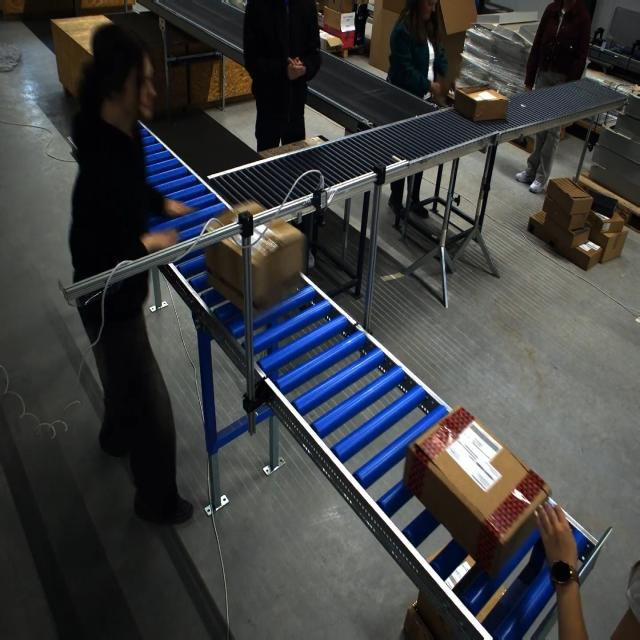box: (403, 407, 548, 572), (204, 202, 305, 314), (453, 85, 509, 123)
